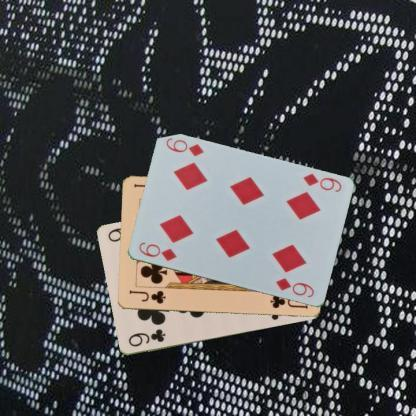6d: (300, 171, 342, 194), (136, 240, 178, 262)
9c: (125, 326, 167, 348)
Jc: (126, 288, 166, 306)
